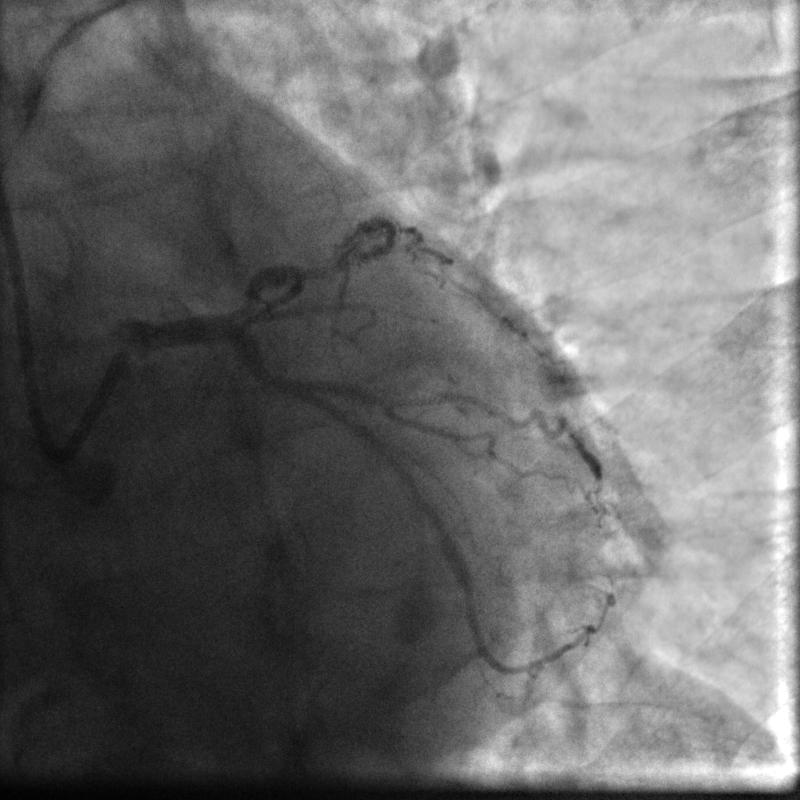Stenosis: (227, 282, 267, 323)
